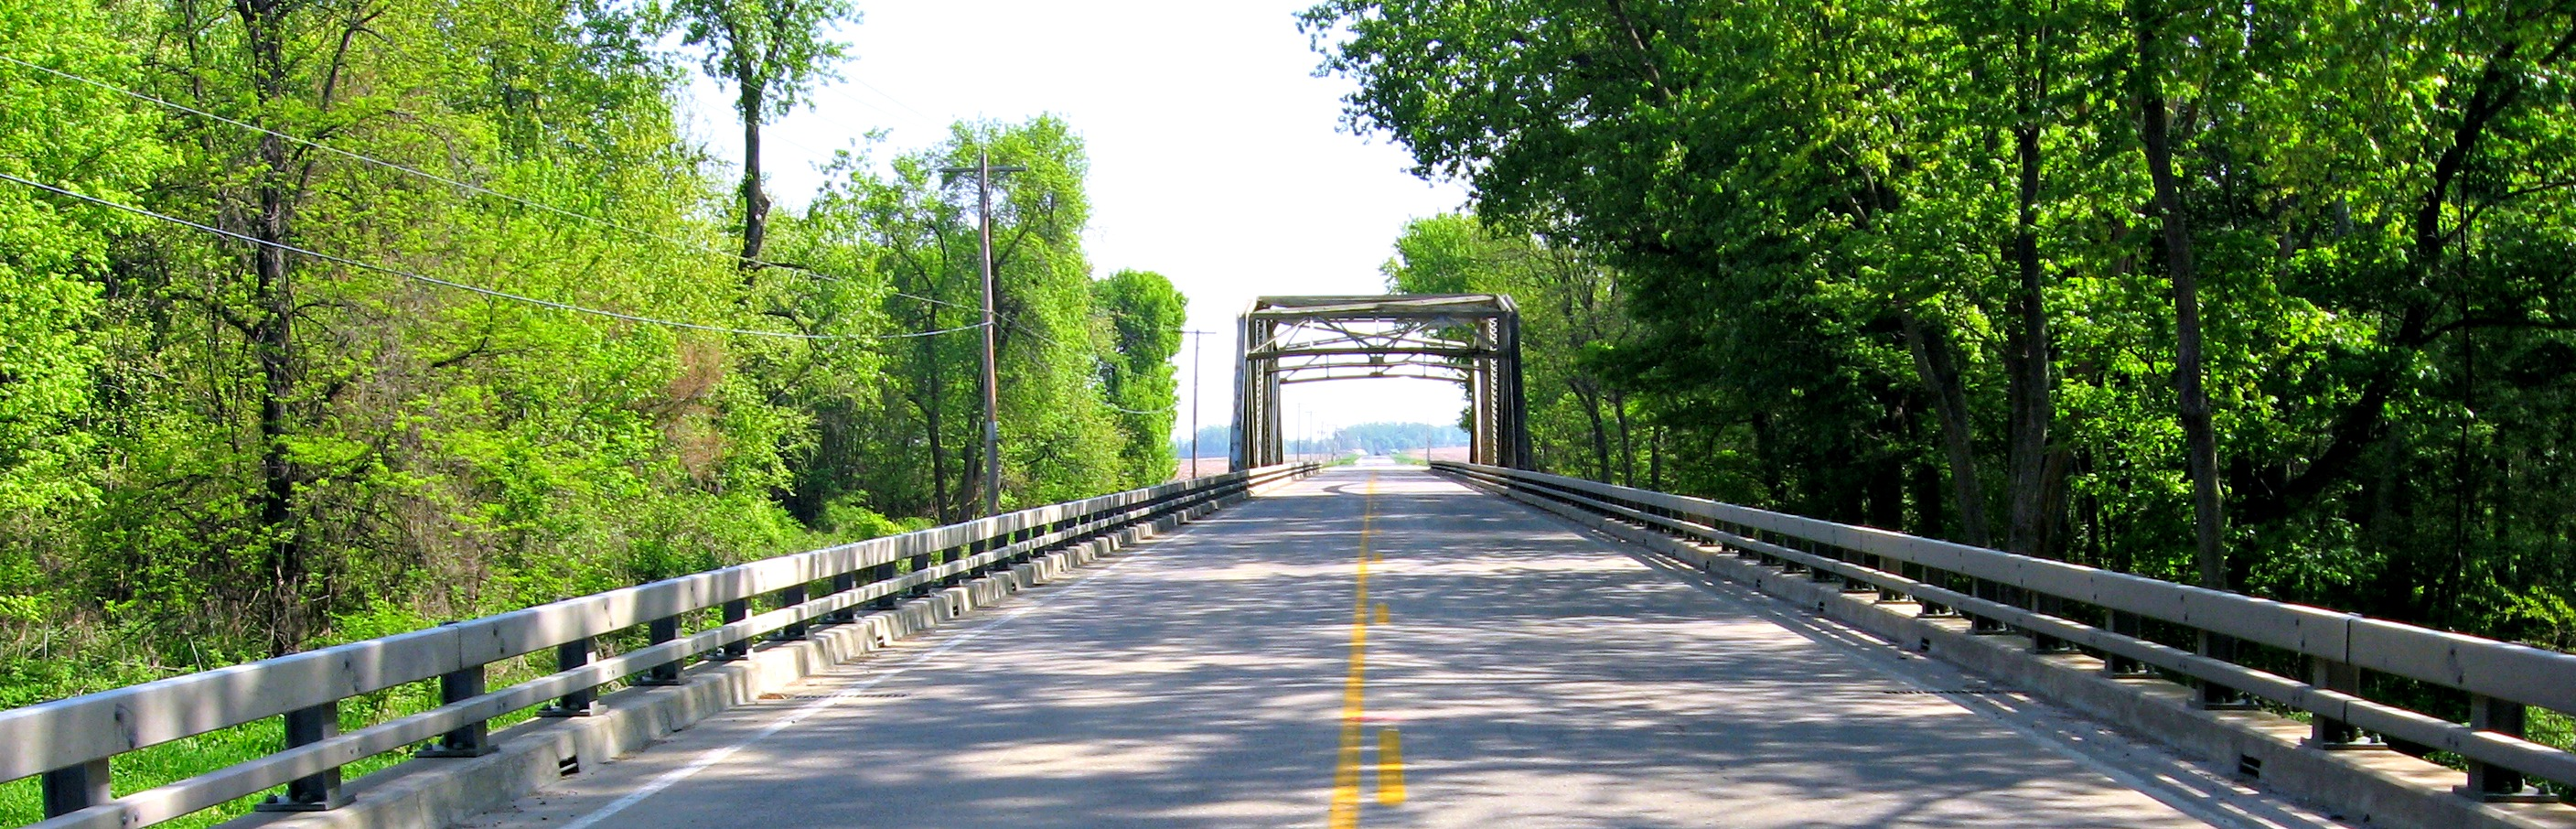bridge: (1222, 286, 1526, 490)
